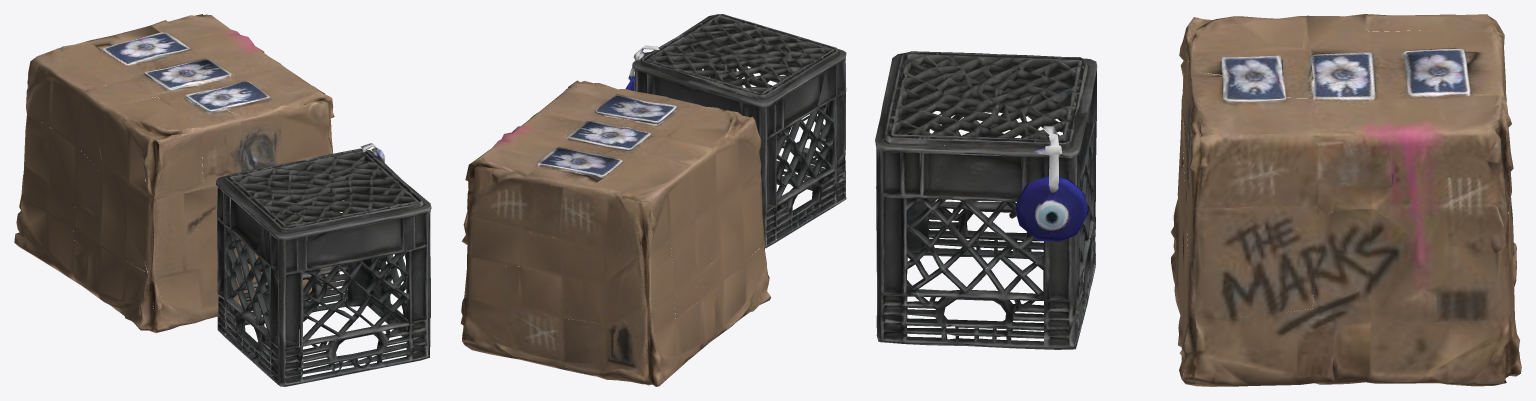
File: monte.glb
The picture shows the model from 3 angles, left to right: view 1: azimuth 30°, elevation 25°; view 2: azimuth 150°, elevation 25°; view 3: azimuth 270°, elevation 25°; orthographic projection. The views are drawn at different scales.
Visible parts, largest first — view 1: tripo_node_17dbb86e-dad2-480f-9fe3-9175315544ab; view 2: tripo_node_17dbb86e-dad2-480f-9fe3-9175315544ab; view 3: tripo_node_17dbb86e-dad2-480f-9fe3-9175315544ab.
Boxes of the visible parts, left/top/right/bottom form: tripo_node_17dbb86e-dad2-480f-9fe3-9175315544ab: left=14, top=14, right=431, bottom=386; tripo_node_17dbb86e-dad2-480f-9fe3-9175315544ab: left=460, top=14, right=846, bottom=386; tripo_node_17dbb86e-dad2-480f-9fe3-9175315544ab: left=875, top=14, right=1521, bottom=386.
Bounding box in the file's own units: 0.4925 × 0.4422 × 1.
Materials: 1 (1 with a texture image).
